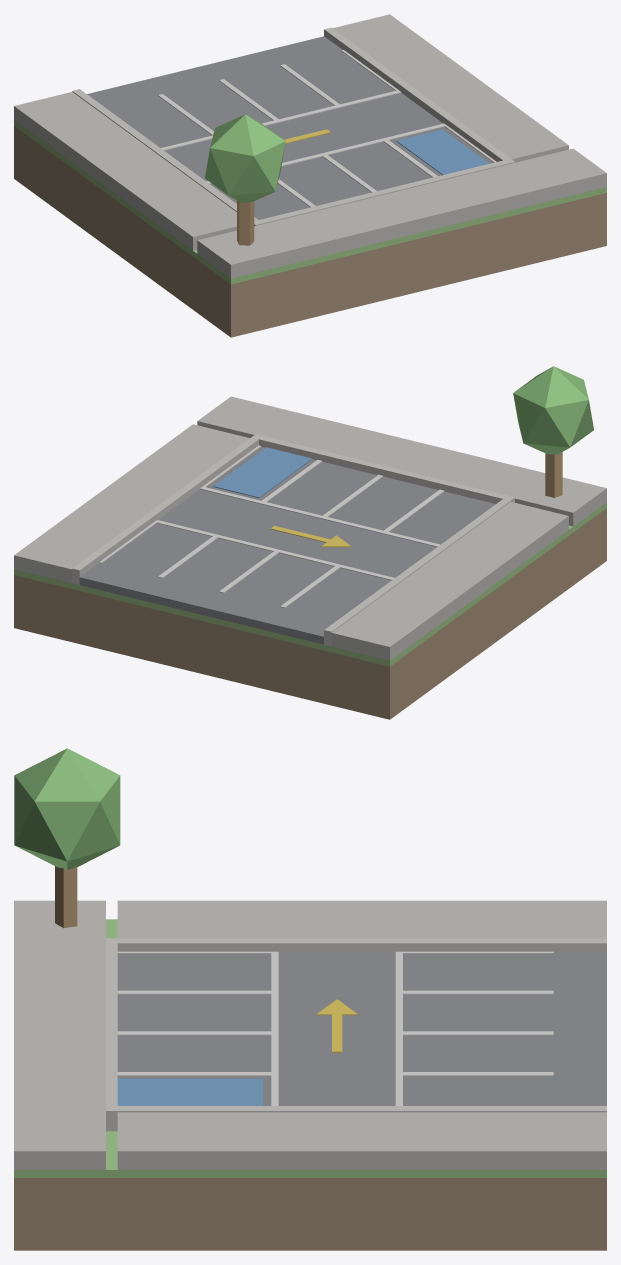
The model's file is ruas__estacionamento.glb.
The picture shows the model from 3 angles, top to bottom: view 1: azimuth 30°, elevation 25°; view 2: azimuth 150°, elevation 25°; view 3: azimuth 270°, elevation 25°; orthographic projection. The views are drawn at different scales.
Parts seen in each view (by area): view 1: ruas__estacionamento; view 2: ruas__estacionamento; view 3: ruas__estacionamento.
Part boxes in pixels (box(x1,y1,x2,y2)): ruas__estacionamento: box(14, 14, 606, 337); ruas__estacionamento: box(14, 366, 606, 719); ruas__estacionamento: box(14, 748, 606, 1250).
Size of the model in its own units: 2.01 by 1.02 by 2.
